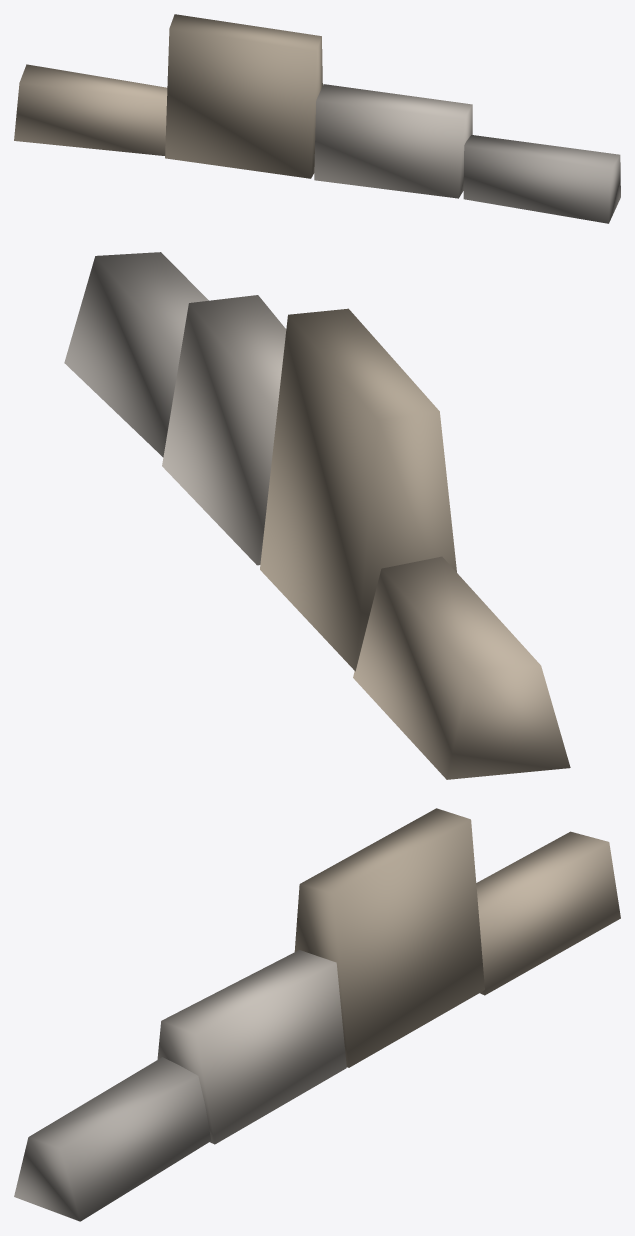
Rendered from farm_-2_4_far.glb.
3 views of the same model, one above another, from view 1: azimuth 30°, elevation 25°; view 2: azimuth 150°, elevation 25°; view 3: azimuth 270°, elevation 25° (orthographic). The views are drawn at different scales.
Parts seen in each view (by area): view 1: geometry_0; view 2: geometry_0; view 3: geometry_0.
Part boxes in pixels (<box>): geometry_0: <box>14,14,620,223</box>; geometry_0: <box>64,252,570,779</box>; geometry_0: <box>14,808,620,1221</box>.
Size of the model in its own units: 5.17 by 1.73 by 4.68.
